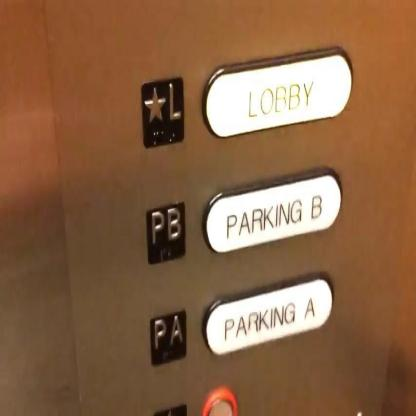PA: (148, 306, 188, 366)
PB: (143, 199, 187, 266)
sL: (139, 73, 186, 148)
